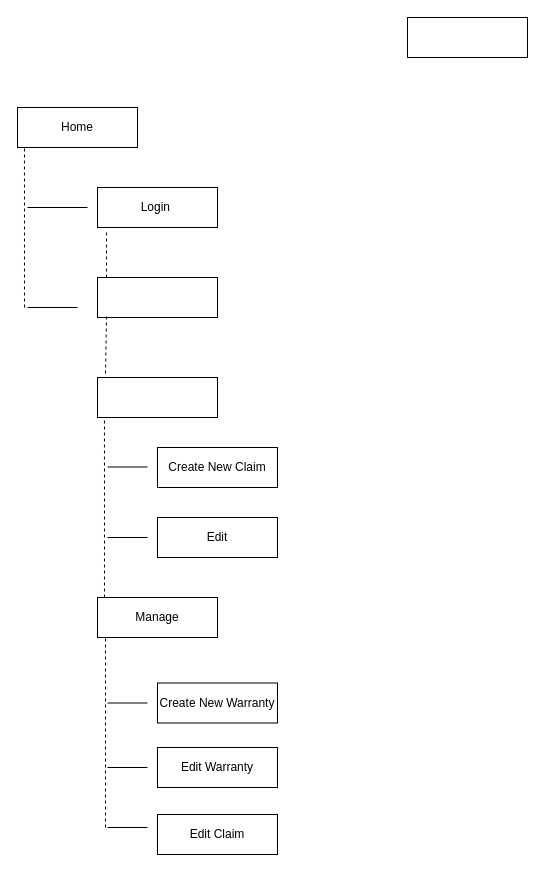
Some shapes in this 545 by 872 pixel diagram are drawn without their labels. Each missing label, with the centre of its shape:
Claims: (157,397)
Register: (157,297)
SITEMAP: (467,37)
